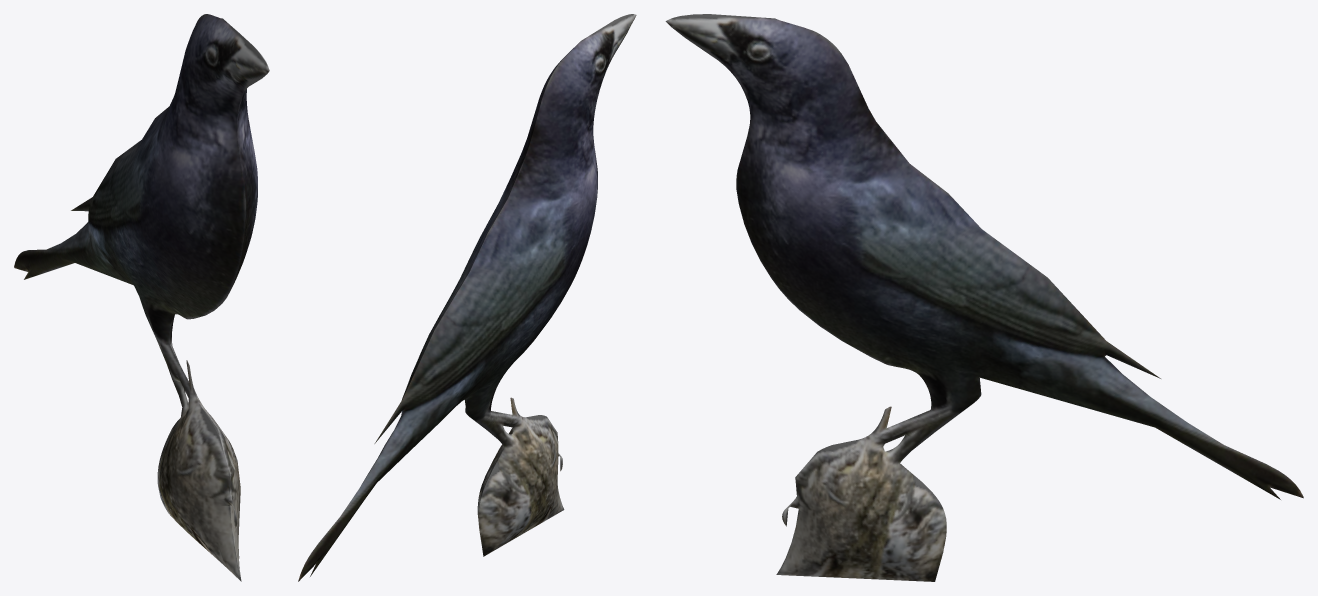
File: 957-Tordo-Renegrido-Macho-removebg-preview.gltf
3 renders of one model, left to right at view 1: azimuth 30°, elevation 25°; view 2: azimuth 150°, elevation 25°; view 3: azimuth 270°, elevation 25°, orthographic. The views are drawn at different scales.
Parts seen in each view (by area): view 1: node1; view 2: node1; view 3: node1.
Boxes of the visible parts, x1,y1,x2,y2 form: node1: (14,14,269,581); node1: (298,14,636,581); node1: (665,14,1303,581).
Size of the model in its own units: 0.2079 by 1.13 by 1.19.
Materials: 1 (1 with a texture image).
